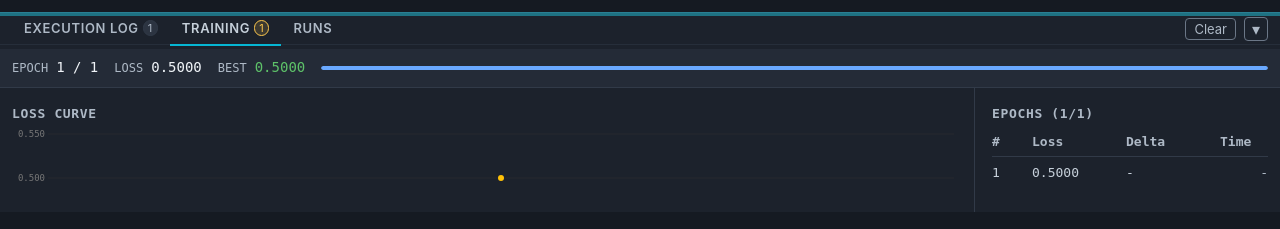
Test: ResultsPanel — training tab › lets the user switch back to the Log tab after training auto-switch
Click the button "Execution Log 1": (91,28) [12,12,170,46]
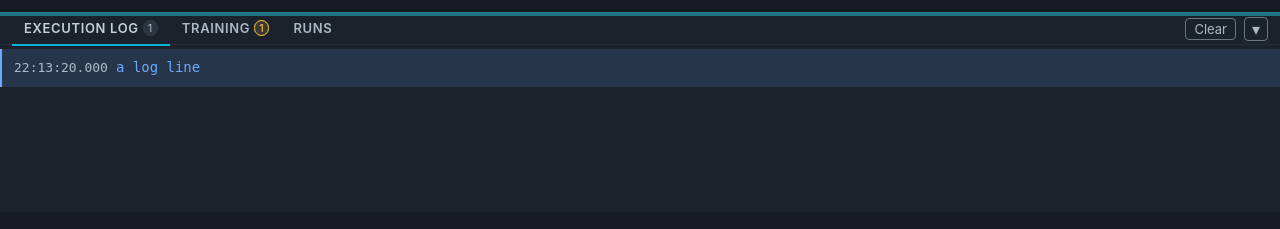
Expected: the text "a log line" is shown, [116,57,200,79]
